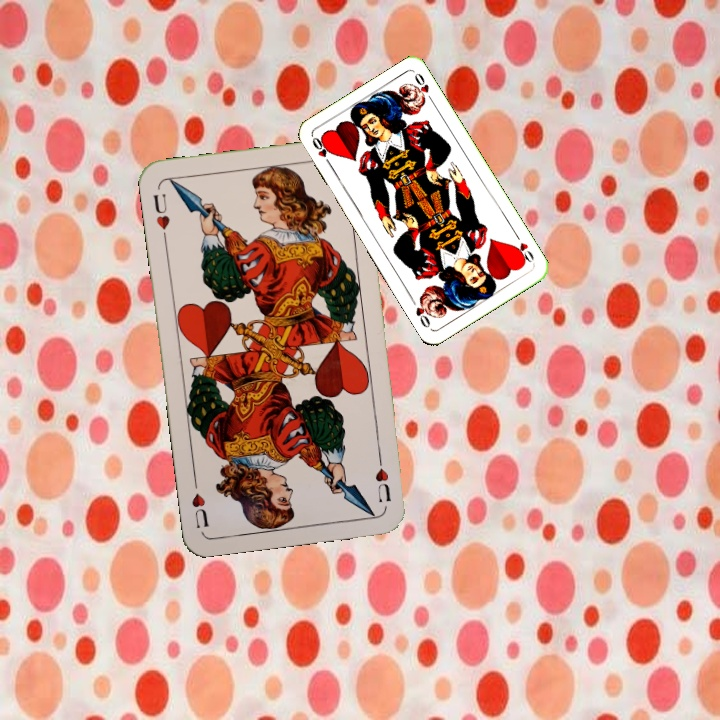HO: (510, 229, 537, 266), (308, 133, 335, 170)
HU: (371, 449, 393, 505), (149, 190, 172, 243)
